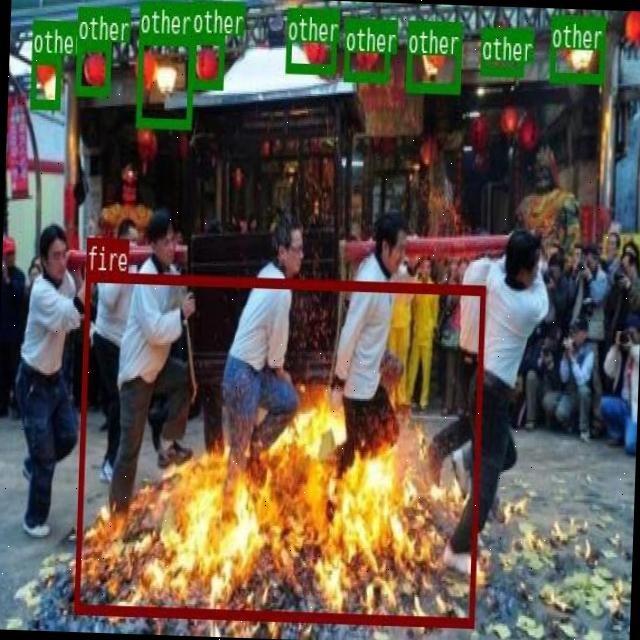fire: (73, 270, 484, 626)
